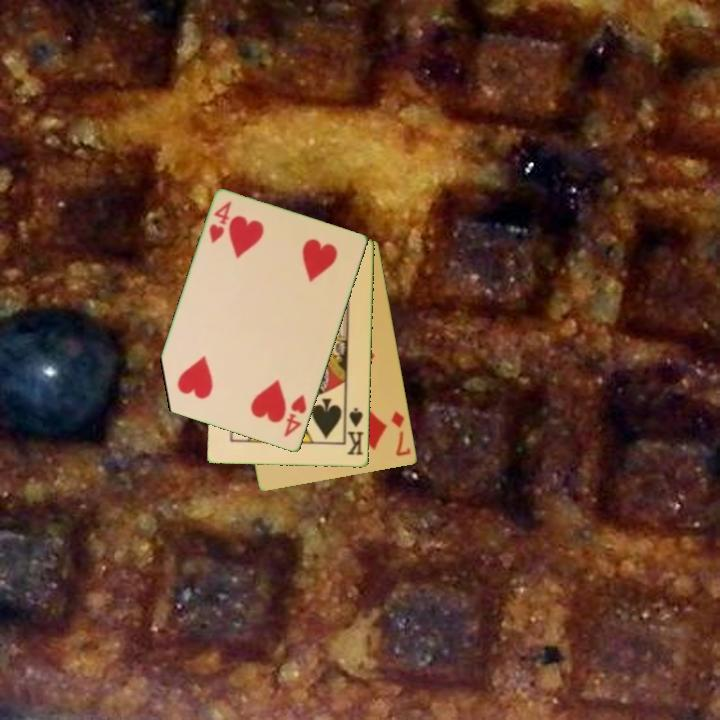4h: (280, 391, 309, 440), (206, 197, 234, 247)
7d: (388, 408, 414, 459)
Ks: (342, 405, 366, 458)
